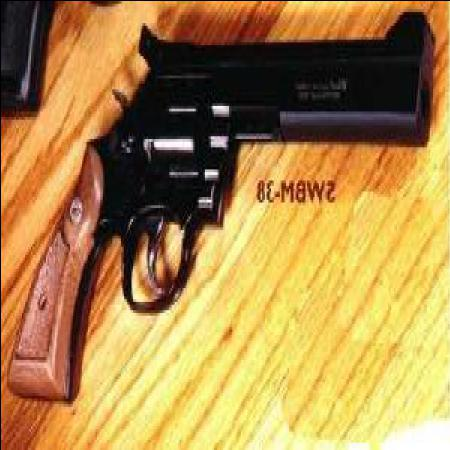Pistol: (3, 3, 431, 403)
